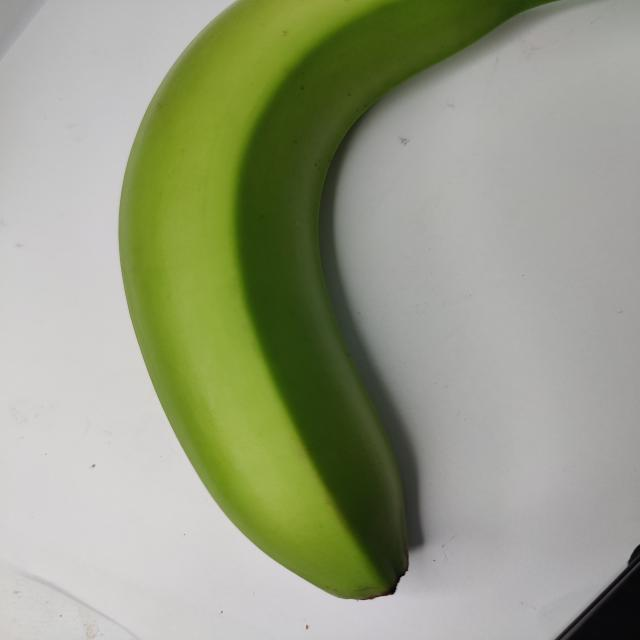raw: (60, 0, 596, 603)
